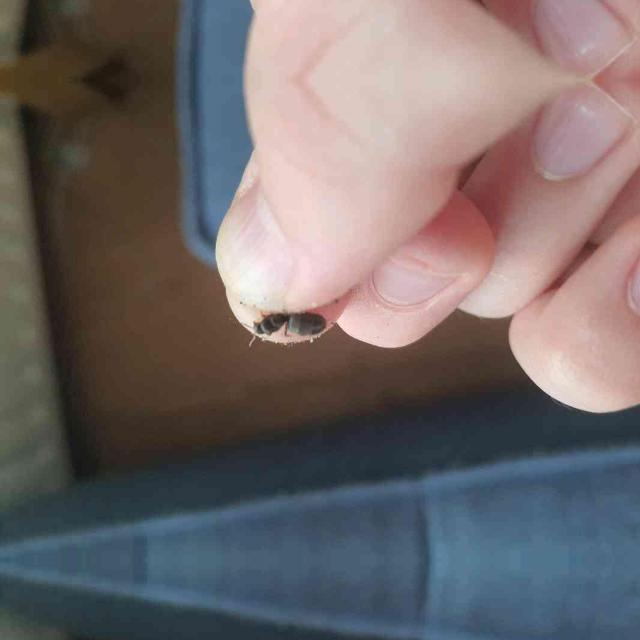Lasius: (242, 302, 326, 350)
